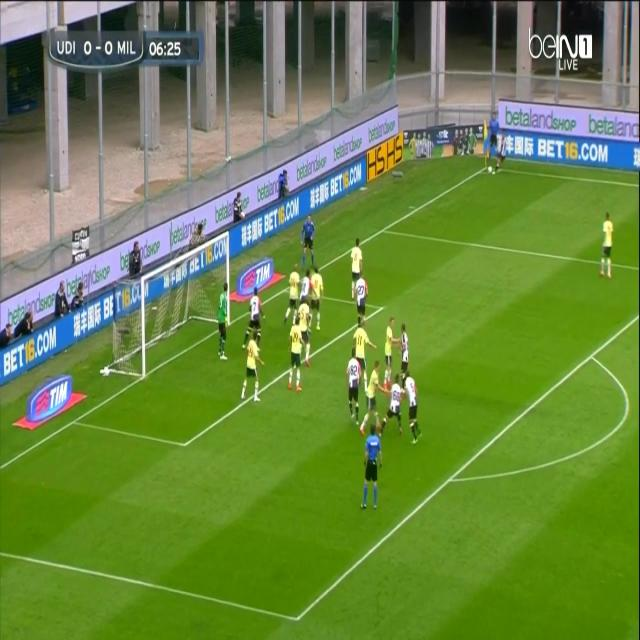Ball: (486, 164, 496, 176)
Goalkeeper: (215, 280, 230, 369)
Player: (238, 330, 267, 407), (359, 356, 384, 436), (238, 287, 269, 351), (404, 370, 425, 453), (596, 212, 618, 286), (344, 345, 364, 424), (382, 372, 404, 440), (288, 311, 305, 397), (284, 258, 302, 324), (353, 318, 375, 372), (348, 236, 364, 300), (354, 268, 370, 328), (311, 264, 324, 336), (301, 295, 314, 367), (382, 308, 395, 372), (398, 324, 412, 376), (495, 131, 511, 174), (301, 263, 311, 303)
Referee: (356, 424, 384, 515), (299, 210, 316, 274)
